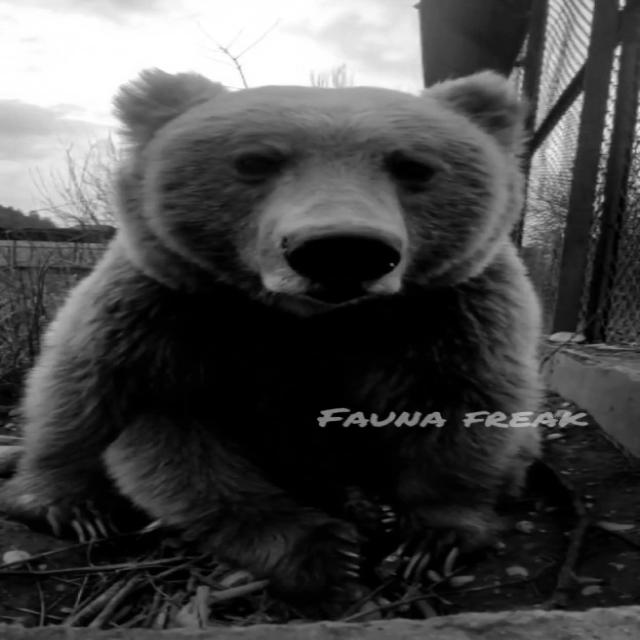Bear: (1, 65, 548, 608)
